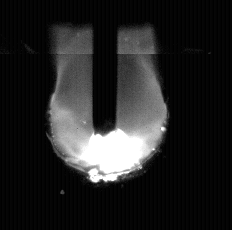arame: (94, 0, 118, 136)
poca: (53, 0, 161, 230)
